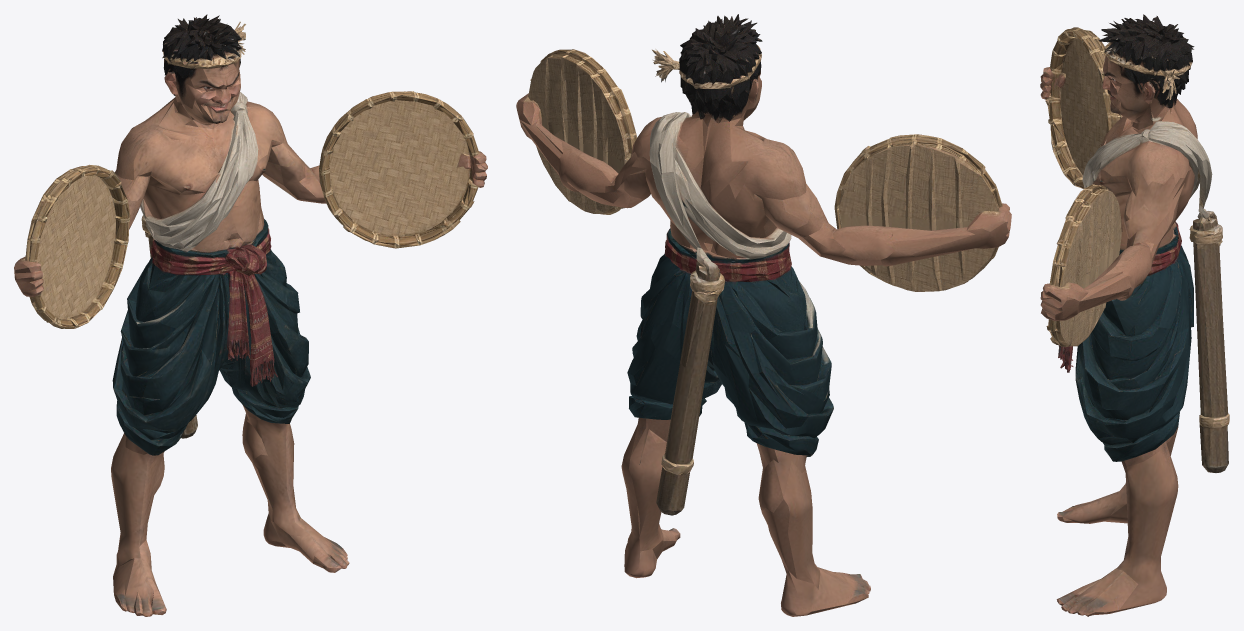
The model's file is krahang.glb.
3 views of the same model, side by side, from view 1: azimuth 30°, elevation 25°; view 2: azimuth 150°, elevation 25°; view 3: azimuth 270°, elevation 25° (orthographic). The views are drawn at different scales.
Size of the model in its own units: 1.71 by 1.9 by 0.6015.
Materials: 1 (1 with a texture image).
